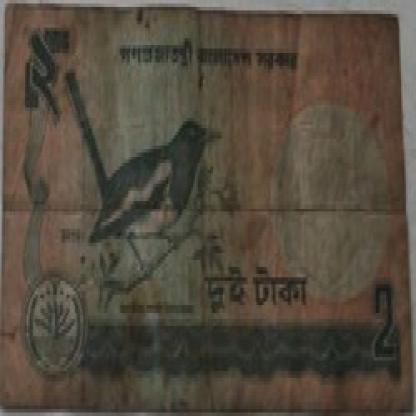two taka: (24, 24, 64, 142), (364, 270, 396, 364)
